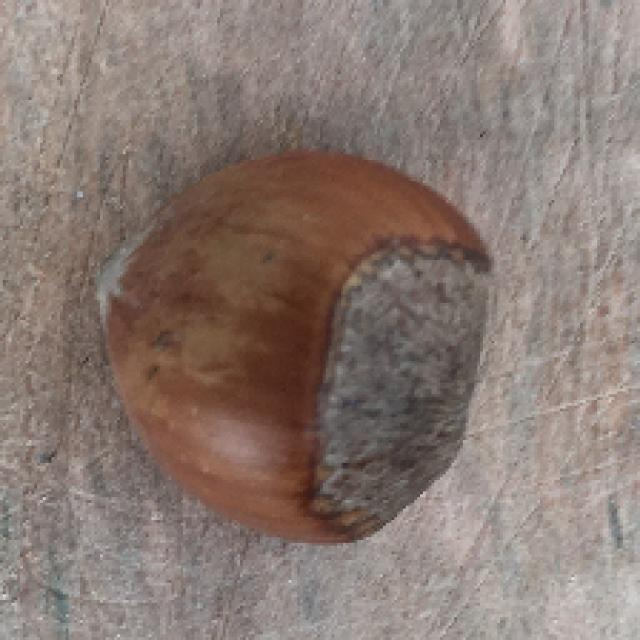damagedHazelnut: (92, 150, 490, 553)
